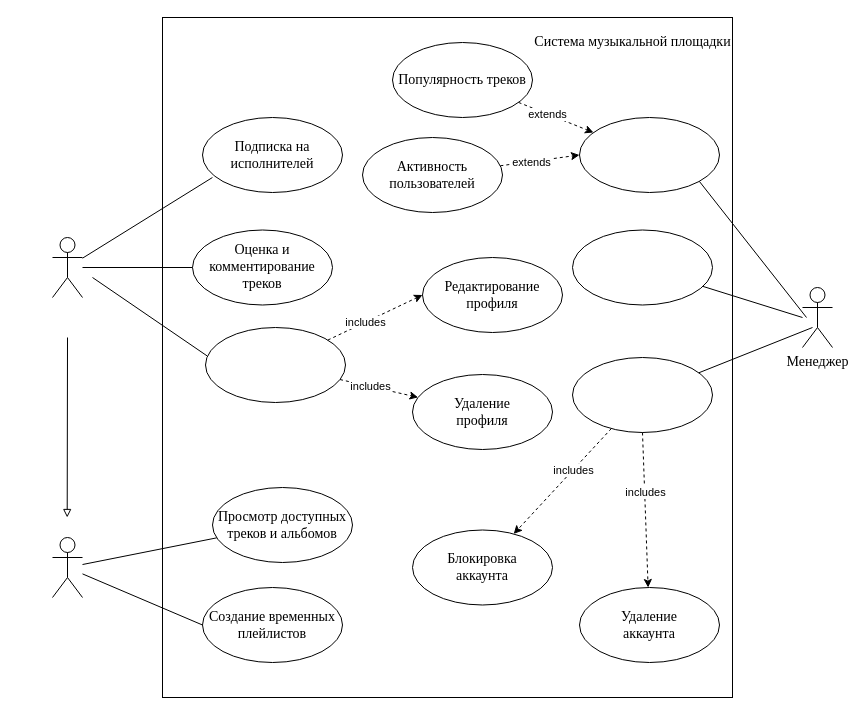
This 866x715 diagram has some shape labels left out. Each missing label, with the centre of its shape:
Авторизованный пользователь: point 67,267
Гость: point 67,567
Просмотр и анализ статистики: point 649,154
Удаление трека: point 642,267
Управление персональным профилем: point 275,364
Управление пользователями: point 642,394
